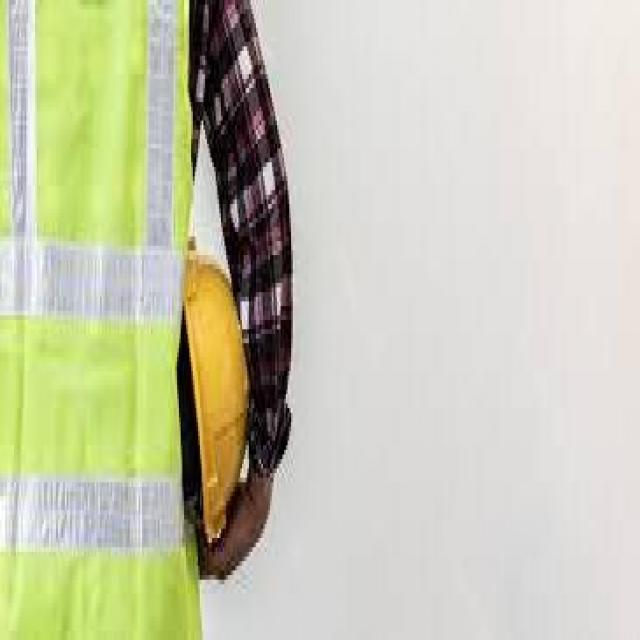Reflective-Jacket: (1, 1, 210, 640)
Safety-Helmet: (172, 250, 267, 552)
